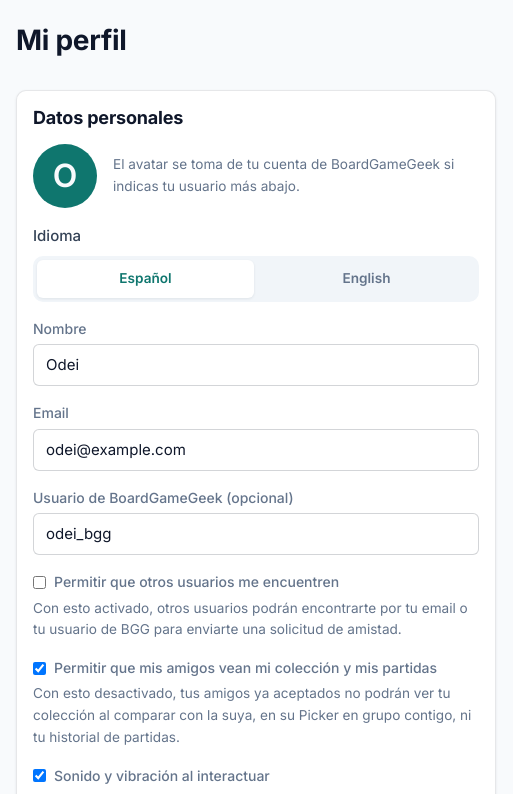
ProfileView personal data form › saves the profile and shows a success message
Replace the text in the field with id "name" with "Nuevo nombre" at point(256, 365), box [33,344,479,386]
(page scrolled)
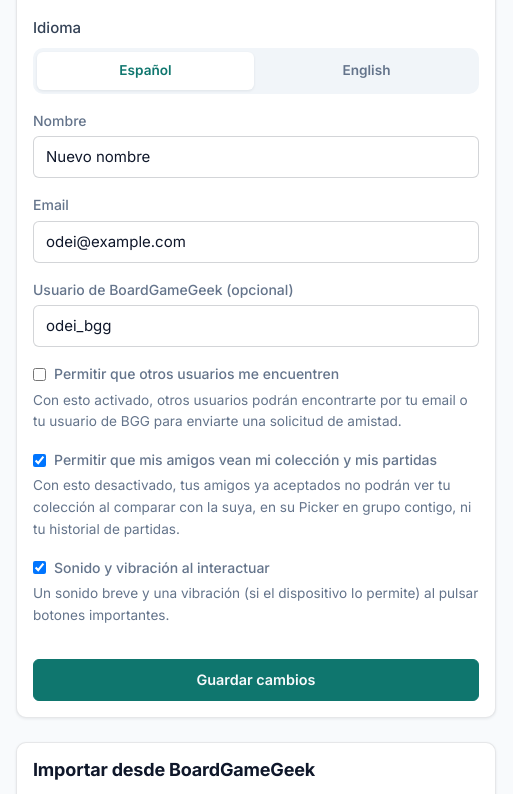
Submit the form
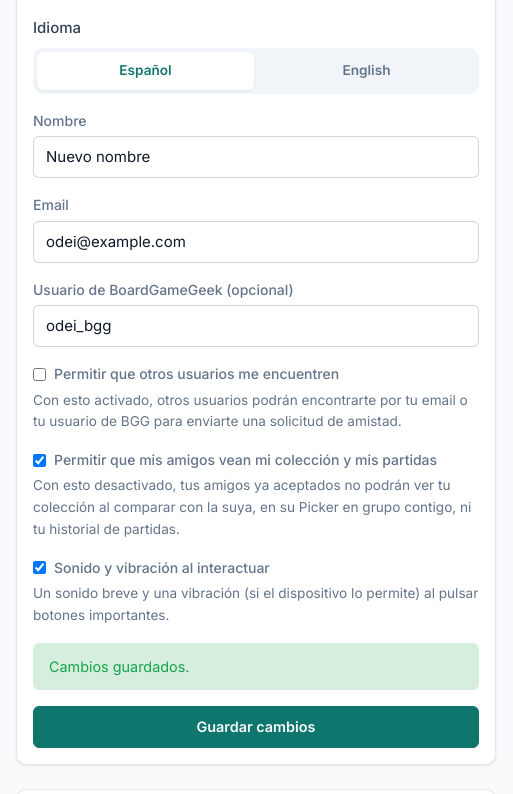
Check: the message "Cambios guardados." is shown, box [33,642,479,690]
